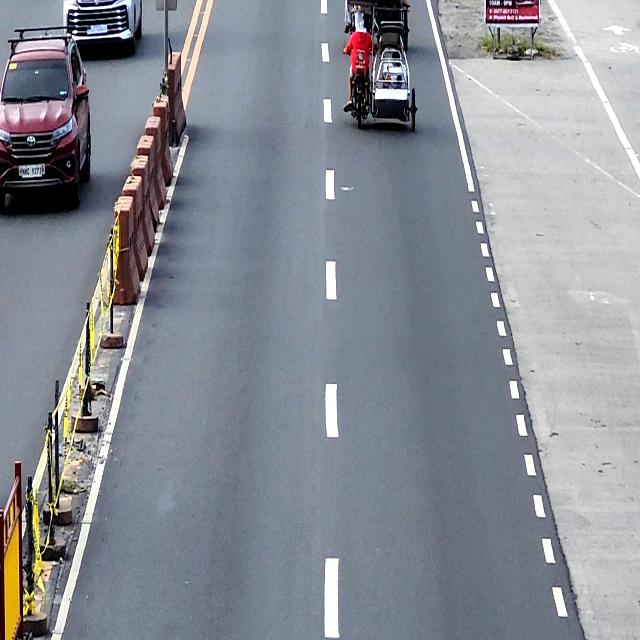Car: (0, 25, 91, 209), (62, 0, 142, 56)
License-Plate: (21, 165, 43, 178), (86, 25, 109, 34)
Tricycle: (348, 2, 418, 129)
